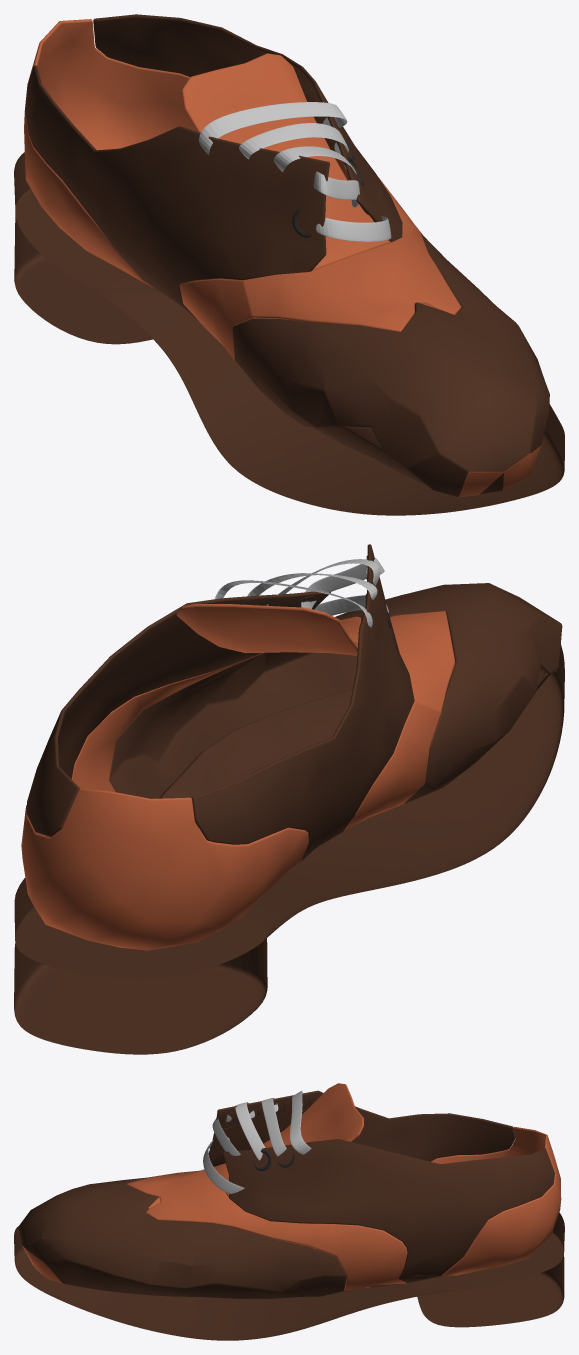
Rendered from za2ve1izquierda.fbx.
3 renders of one model, top to bottom at view 1: azimuth 30°, elevation 25°; view 2: azimuth 150°, elevation 25°; view 3: azimuth 270°, elevation 25°, orthographic. The views are drawn at different scales.
Visible parts, largest first — view 1: zapato2, Plane, Plane.004, Plane.003, Plane.005, Plane.002, Plane.001; view 2: zapato2, Plane, Plane.002, Plane.003, Plane.005, Plane.004; view 3: zapato2, Plane, Plane.001, Plane.003, Plane.004, Plane.005, Plane.002.
Boxes of the visible parts, <box> form: zapato2: <box>24,14,549,497</box>; Plane: <box>14,152,564,515</box>; Plane.004: <box>198,102,347,154</box>; Plane.003: <box>239,123,348,159</box>; Plane.005: <box>316,216,391,241</box>; Plane.002: <box>313,171,359,207</box>; Plane.001: <box>273,146,356,174</box>; zapato2: <box>21,544,562,950</box>; Plane: <box>14,644,564,1054</box>; Plane.002: <box>301,558,384,608</box>; Plane.003: <box>247,573,377,610</box>; Plane.005: <box>314,595,388,615</box>; Plane.004: <box>215,580,372,627</box>; zapato2: <box>18,1083,561,1298</box>; Plane: <box>14,1212,564,1340</box>; Plane.001: <box>235,1102,265,1160</box>; Plane.003: <box>261,1098,286,1156</box>; Plane.004: <box>290,1091,311,1154</box>; Plane.005: <box>203,1137,244,1193</box>; Plane.002: <box>212,1115,240,1155</box>.
Size of the model in its own units: 169 by 176 by 447.
